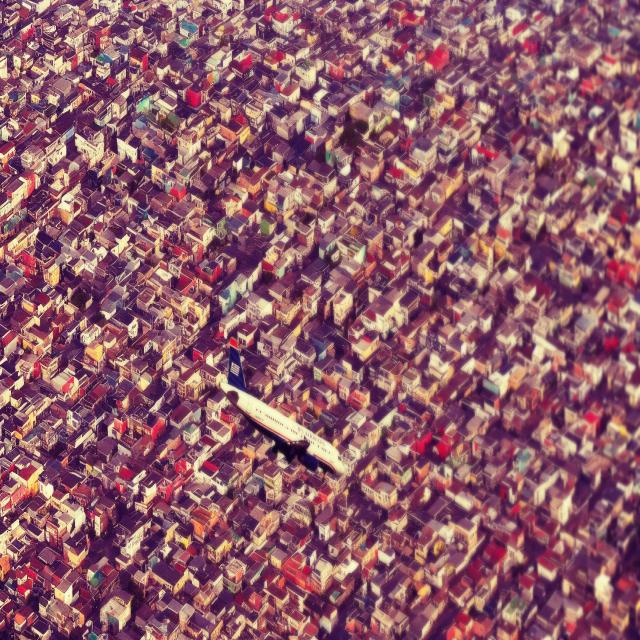airplane: (218, 337, 346, 478)
